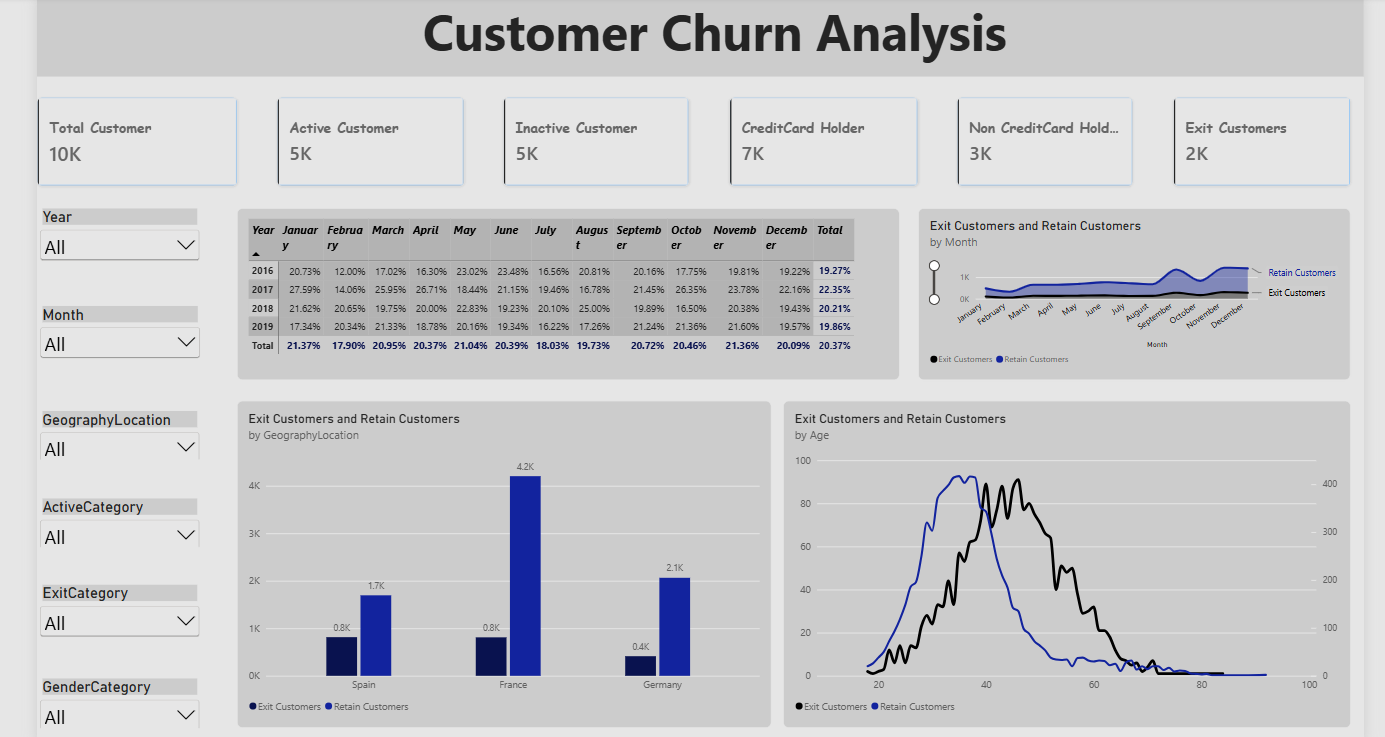

The page's visual inventory and layout, read from the dashboard file:
{"tool":"powerbi","page":{"name":"Page 2","canvas":[1920,1080],"ordinal":1},"visuals":[{"type":"textbox","box":[0,0,1920.4,115.3],"z":0},{"type":"cardVisual","fields":{"Data":["Calculation.Total Customer"]},"box":[0,144.1,290.2,129.7],"z":1000},{"type":"cardVisual","fields":{"Data":["Calculation.Active Customer"]},"box":[347,144.1,271.7,129.7],"z":2000},{"type":"cardVisual","fields":{"Data":["Calculation.Exit Customers"]},"box":[1644.6,144.1,257.3,129.7],"z":3000},{"type":"cardVisual","fields":{"Data":["Calculation.Non CreditCard Holder"]},"box":[1332.6,144.1,255.2,129.7],"z":4000},{"type":"cardVisual","fields":{"Data":["Calculation.CreditCard Holder"]},"box":[1002,144.1,273.8,129.7],"z":5000},{"type":"cardVisual","fields":{"Data":["Calculation.Inactive Customer"]},"box":[675.5,144.1,269.6,129.7],"z":6000},{"type":"slicer","fields":{"Values":["Date Master.Year"]},"box":[0,306.7,240,84],"z":7000},{"type":"slicer","fields":{"Values":["Date Master.Month"]},"box":[0,447.2,240.8,94.7],"z":8000},{"type":"slicer","fields":{"Values":["Geography.GeographyLocation"]},"box":[0,598.4,240,70],"z":9000},{"type":"slicer","fields":{"Values":["ActiveCustomer.ActiveCategory"]},"box":[0,724.9,240,70],"z":10000},{"type":"slicer","fields":{"Values":["Exit Customer.ExitCategory"]},"box":[0,851.4,240,78],"z":11000},{"type":"slicer","fields":{"Values":["Gender.GenderCategory"]},"box":[0,985.9,240,72],"z":12000},{"type":"pivotTable","fields":{"Rows":["Date Master.Year"],"Columns":["Date Master.Month"],"Values":["Calculation.Churn%"]},"box":[290.2,306.7,959.2,249.1],"z":13000},{"type":"clusteredColumnChart","fields":{"Category":["Geography.GeographyLocation"],"Y":["Calculation.Exit Customers","Calculation.Retain Customers"]},"box":[290.2,584.6,773.9,473.4],"z":14000},{"type":"lineChart","fields":{"Category":["Bank_Churn.Age"],"Y":["Calculation.Exit Customers"],"Y2":["Calculation.Retain Customers"]},"box":[1080.6,584.6,821.3,473.4],"z":15000},{"type":"areaChart","fields":{"Category":["Date Master.Month"],"Y":["Calculation.Exit Customers","Calculation.Retain Customers"]},"box":[1276.2,306.7,625.7,249.1],"z":16000}]}

Visuals, with their boxes on the page's 1920x1080 design canvas (x1, y1, x2, y2). These are canvas units, not pixel positions in the 1385x737 screenshot, which may show the page scaled, cropped or inside an application window:
textbox: {"x1": 0, "y1": 0, "x2": 1920, "y2": 115}
cardVisual - Calculation.Total Customer: {"x1": 0, "y1": 144, "x2": 290, "y2": 274}
cardVisual - Calculation.Active Customer: {"x1": 347, "y1": 144, "x2": 619, "y2": 274}
cardVisual - Calculation.Exit Customers: {"x1": 1645, "y1": 144, "x2": 1902, "y2": 274}
cardVisual - Calculation.Non CreditCard Holder: {"x1": 1333, "y1": 144, "x2": 1588, "y2": 274}
cardVisual - Calculation.CreditCard Holder: {"x1": 1002, "y1": 144, "x2": 1276, "y2": 274}
cardVisual - Calculation.Inactive Customer: {"x1": 676, "y1": 144, "x2": 945, "y2": 274}
slicer - Date Master.Year: {"x1": 0, "y1": 307, "x2": 240, "y2": 391}
slicer - Date Master.Month: {"x1": 0, "y1": 447, "x2": 241, "y2": 542}
slicer - Geography.GeographyLocation: {"x1": 0, "y1": 598, "x2": 240, "y2": 668}
slicer - ActiveCustomer.ActiveCategory: {"x1": 0, "y1": 725, "x2": 240, "y2": 795}
slicer - Exit Customer.ExitCategory: {"x1": 0, "y1": 851, "x2": 240, "y2": 929}
slicer - Gender.GenderCategory: {"x1": 0, "y1": 986, "x2": 240, "y2": 1058}
pivotTable - Date Master.Year x Date Master.Month: {"x1": 290, "y1": 307, "x2": 1249, "y2": 556}
clusteredColumnChart - Geography.GeographyLocation x Calculation.Exit Customers: {"x1": 290, "y1": 585, "x2": 1064, "y2": 1058}
lineChart - Bank_Churn.Age x Calculation.Exit Customers: {"x1": 1081, "y1": 585, "x2": 1902, "y2": 1058}
areaChart - Date Master.Month x Calculation.Exit Customers: {"x1": 1276, "y1": 307, "x2": 1902, "y2": 556}
